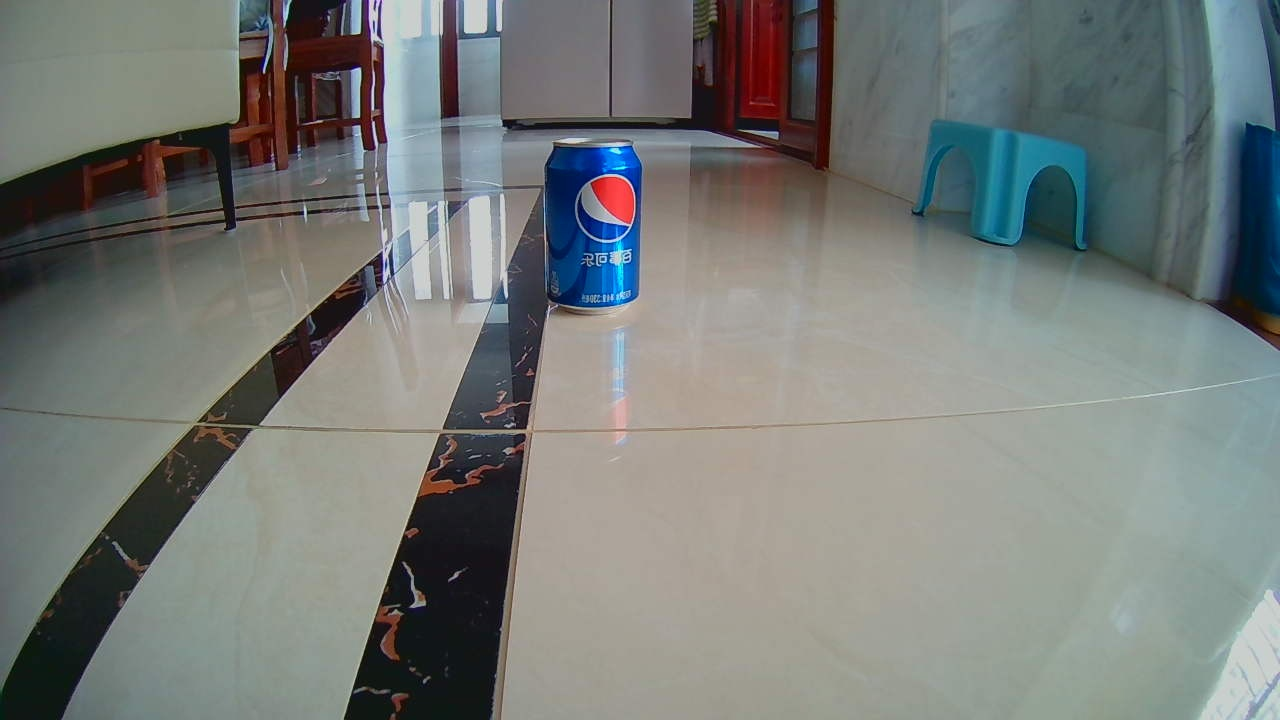pessi: (541, 139, 640, 311)
